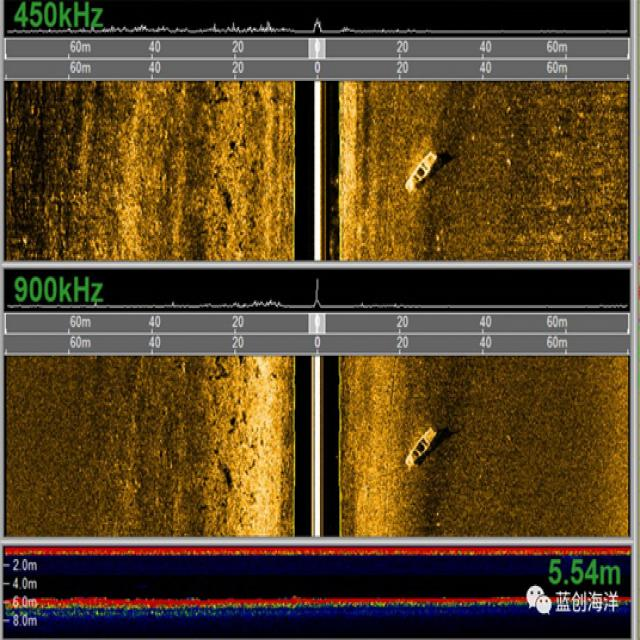ship: (398, 419, 441, 470), (399, 146, 442, 192)
